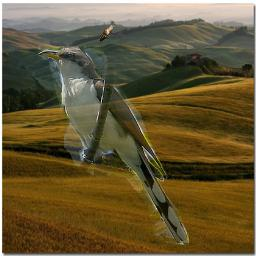Cuckoo: (38, 46, 189, 245), (98, 25, 114, 44)
